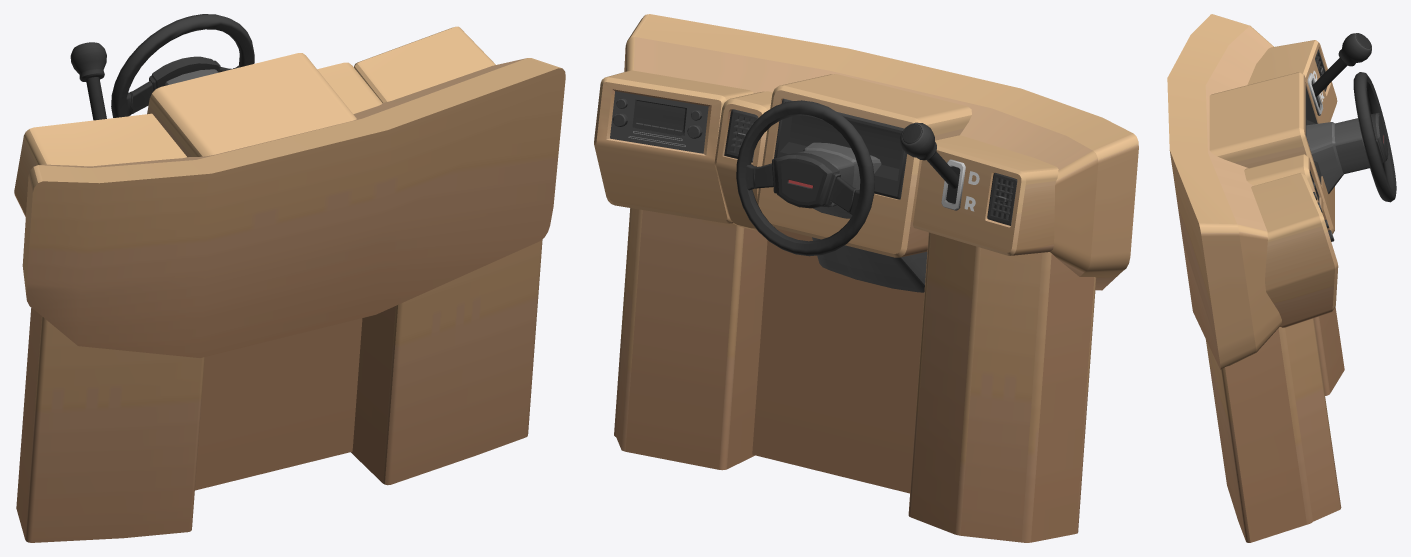
Rendered from SteeringDashboard (Pickup).fbx.
3 renders of one model, left to right at view 1: azimuth 30°, elevation 25°; view 2: azimuth 150°, elevation 25°; view 3: azimuth 270°, elevation 25°, orthographic. The views are drawn at different scales.
Parts seen in each view (by area): view 1: Base, Rubble, Transmission; view 2: Base, Rubble, Transmission, TransmissionBase; view 3: Base, Rubble, Transmission.
Boxes of the visible parts, x1=… form: Base: x1=14, y1=26, x2=565, y2=542; Rubble: x1=111, y1=14, x2=254, y2=117; Transmission: x1=70, y1=42, x2=106, y2=120; Base: x1=594, y1=14, x2=1138, y2=542; Rubble: x1=736, y1=100, x2=874, y2=256; Transmission: x1=900, y1=122, x2=958, y2=188; TransmissionBase: x1=941, y1=159, x2=965, y2=210; Base: x1=1167, y1=14, x2=1369, y2=542; Rubble: x1=1353, y1=72, x2=1396, y2=202; Transmission: x1=1312, y1=33, x2=1371, y2=97.
Size of the model in its own units: 404 by 323 by 185.
